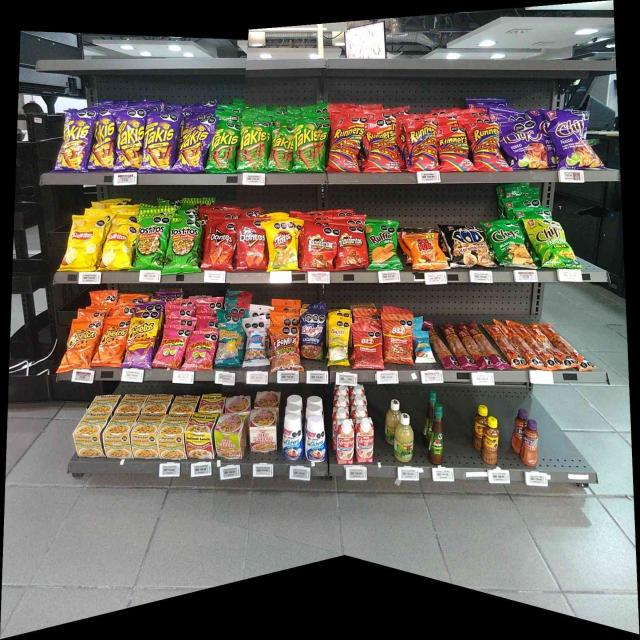bitzAlmendras: (414, 334, 434, 364)
bitzEnchilado90: (386, 316, 411, 362), (355, 327, 382, 366)
bitzEnchilado95: (498, 324, 576, 371)
bitzHabanero: (438, 324, 483, 368)
bokadosCacahuates: (301, 312, 324, 356)
cheetosFlaminHot: (129, 318, 152, 367)
cheetosOriginal: (68, 327, 95, 367), (102, 322, 125, 362)
chipsFuego: (558, 116, 590, 164), (508, 132, 550, 165)
chipsJalapeno: (494, 222, 527, 266)
chipsPapatinas: (533, 220, 569, 264)
churrumais: (157, 332, 184, 368), (186, 334, 214, 368)
delPrimoSalsa: (394, 412, 412, 464)
doritosNacho: (238, 225, 264, 267), (206, 228, 234, 265)
fritosLimon: (271, 222, 293, 268)
hotNutsOriginal: (413, 234, 438, 268)
leoCacahuates: (244, 320, 265, 368)
leoMix: (272, 326, 300, 371)
maruchanPollo: (162, 414, 185, 459), (133, 415, 157, 456), (108, 416, 130, 456)
maruchanRes: (189, 418, 213, 459)
nestleCarnation: (354, 418, 374, 464), (336, 417, 354, 462)
nestleLechera: (306, 418, 326, 460), (283, 416, 302, 459)
nissinCamaron: (216, 418, 243, 458)
nissinRes: (252, 413, 277, 452)
popKarameladas: (451, 226, 488, 268)
rancheritos: (306, 229, 336, 266), (338, 228, 364, 268)
rufflesQueso: (367, 225, 397, 271)
runners: (332, 127, 363, 167), (369, 131, 395, 173), (410, 125, 434, 166), (474, 126, 499, 164), (440, 134, 465, 166)
sabritasOriginal: (70, 222, 97, 267), (101, 230, 131, 267)
salsaBufalo: (430, 401, 445, 464), (483, 416, 498, 466)
semillasCalabaza: (328, 319, 348, 365)
semillasGirasol: (217, 317, 241, 366)
tajinDulce: (521, 421, 539, 467)
takisFuego: (60, 116, 91, 168), (146, 121, 175, 165), (119, 117, 144, 167), (180, 126, 207, 167), (94, 117, 115, 169)
takisOriginal: (211, 129, 239, 167), (242, 128, 267, 170), (298, 124, 318, 167), (270, 135, 295, 169)
tostitos: (169, 224, 197, 270), (137, 222, 166, 265)
